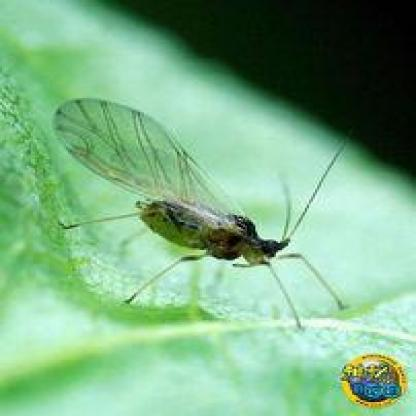aphid: (51, 85, 358, 323)
